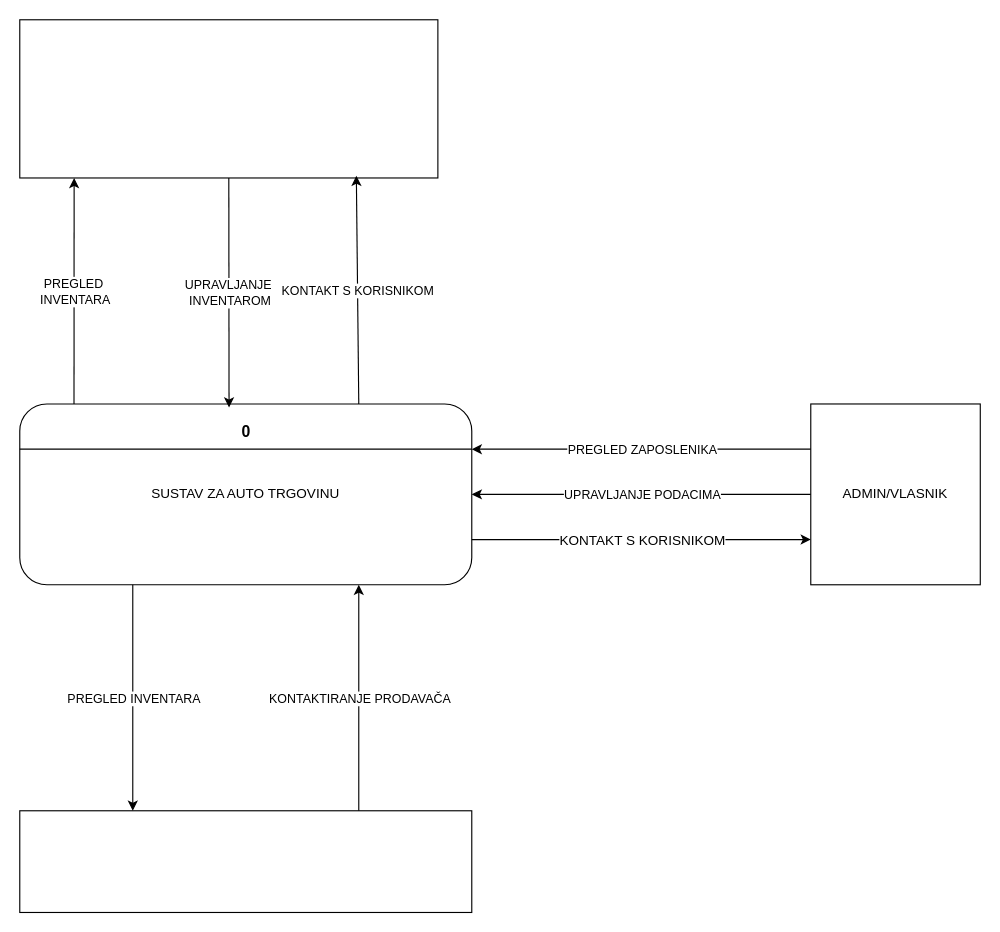
The diagram is 1000 pixels wide and 932 high, and some of its shapes have lost their labels. The shapes that lost their labels are listed below. From the top down, each one's centre as x and y in pixels, then its label:
At [228,98]: "ZAPOSLENIK".
At [245,861]: "KORISNIK".
